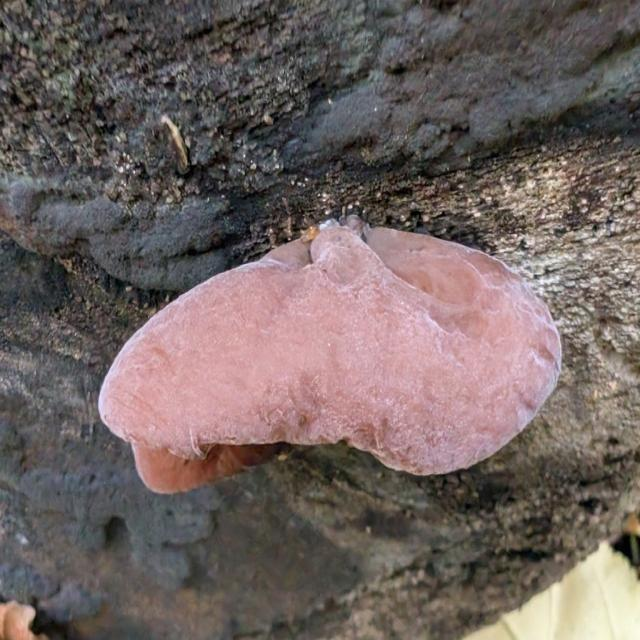Matang: (95, 214, 568, 502)
